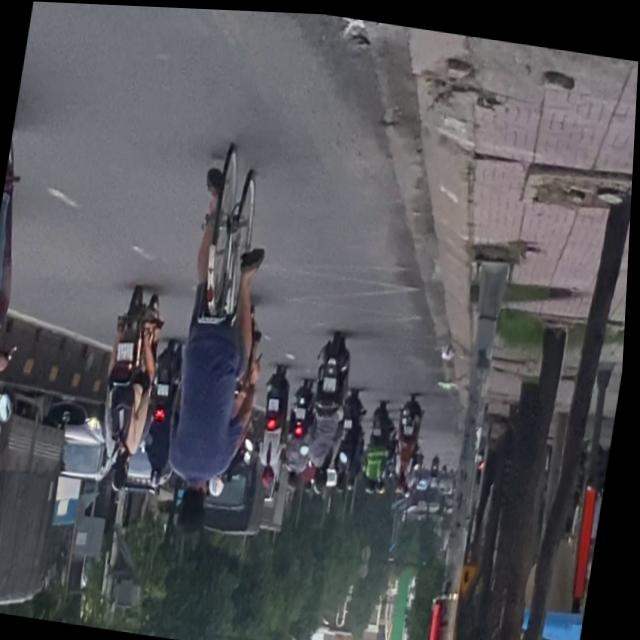licenseplate: (88, 279, 172, 497)
motorcyclist: (111, 450, 134, 490)
nohelmet: (117, 340, 136, 361)
